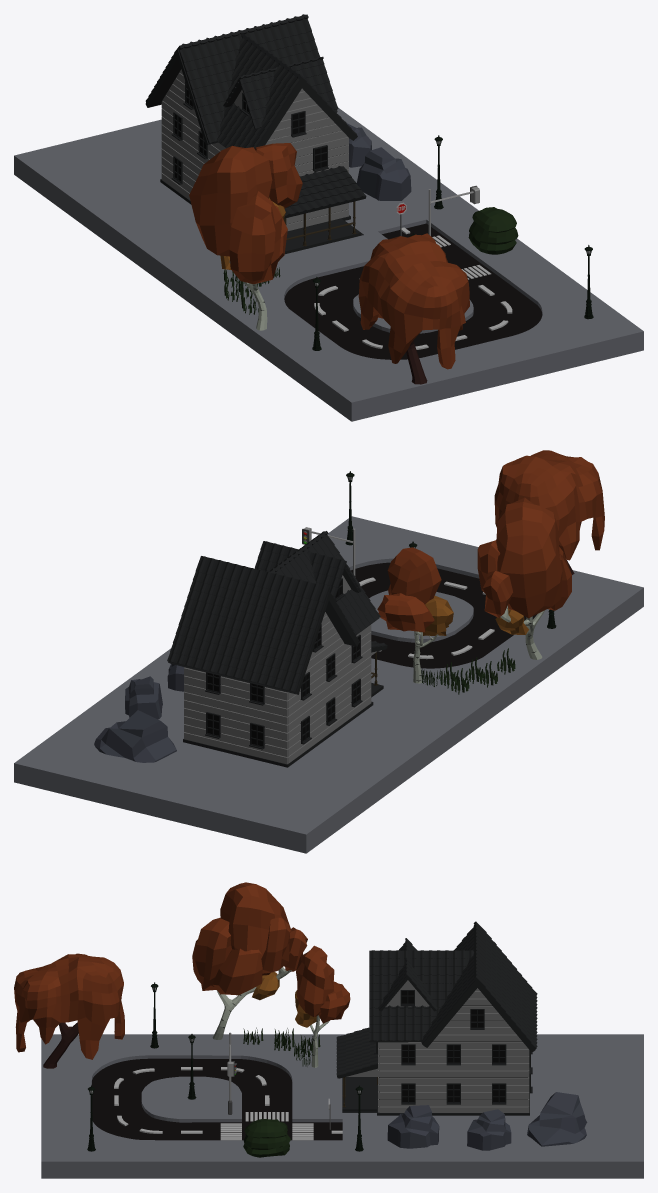
File: city.obj
The picture shows the model from 3 angles, top to bottom: view 1: azimuth 30°, elevation 25°; view 2: azimuth 150°, elevation 25°; view 3: azimuth 270°, elevation 25°; orthographic projection. The views are drawn at different scales.
Parts seen in each view (by area): view 1: House1_Plane.010, Street_Curve_Cube.002, Street_Curve_Cube.000, Street_Curve_Cube.001, Street_Empty_Cube.002, Willow_Autumn_4_Cube.085, BirchTree_Autumn_1_Cube.097, Street_Empty_Cube.003, Street_3Way_Cube.007, Street_Empty_Cube, Rock_7_Cube.030, BirchTree_Autumn_3_Cube.082 (+2 smaller); view 2: House1_Plane.010, Street_Empty_Cube.002, Street_Empty_Cube.001, Street_Curve_Cube.001, BirchTree_Autumn_1_Cube.097, Street_Empty_Cube.003, Street_Curve_Cube.000, Willow_Autumn_4_Cube.085, Street_Curve_Cube.002, BirchTree_Autumn_3_Cube.082, Rock_7_Cube.000, Street_Empty_Cube (+1 smaller); view 3: House1_Plane.010, Street_Curve_Cube.002, Street_3Way_Cube.007, BirchTree_Autumn_1_Cube.097, Street_Empty_Cube.001, Street_Curve_Cube.001, Willow_Autumn_4_Cube.085, Street_Curve_Cube.000, Street_Empty_Cube, Street_Empty_Cube.002, BirchTree_Autumn_3_Cube.082, Rock_7_Cube.000 (+3 smaller).
Part boxes in pixels (<box>): House1_Plane.010: <box>145,14,366,254</box>; Street_Curve_Cube.002: <box>456,269,643,385</box>; Street_Curve_Cube.000: <box>267,317,497,421</box>; Street_Curve_Cube.001: <box>182,243,361,359</box>; Street_Empty_Cube.002: <box>14,120,180,235</box>; Willow_Autumn_4_Cube.085: <box>358,233,469,384</box>; BirchTree_Autumn_1_Cube.097: <box>189,145,287,330</box>; Street_Empty_Cube.003: <box>98,197,223,297</box>; Street_3Way_Cube.007: <box>329,208,559,294</box>; Street_Empty_Cube: <box>345,146,474,234</box>; Rock_7_Cube.030: <box>356,147,411,200</box>; BirchTree_Autumn_3_Cube.082: <box>255,143,302,219</box>; House1_Plane.010: <box>167,531,387,767</box>; Street_Empty_Cube.002: <box>160,752,390,853</box>; Street_Empty_Cube.001: <box>14,701,223,817</box>; Street_Curve_Cube.001: <box>371,623,559,729</box>; BirchTree_Autumn_1_Cube.097: <box>477,497,571,659</box>; Street_Empty_Cube.003: <box>308,688,475,791</box>; Street_Curve_Cube.000: <box>437,567,643,667</box>; Willow_Autumn_4_Cube.085: <box>494,450,604,574</box>; Street_Curve_Cube.002: <box>327,516,478,605</box>; BirchTree_Autumn_3_Cube.082: <box>377,547,453,683</box>; Rock_7_Cube.000: <box>94,710,176,762</box>; Street_Empty_Cube: <box>98,648,183,722</box>; House1_Plane.010: <box>336,921,537,1115</box>; Street_Curve_Cube.002: <box>41,1098,191,1178</box>; Street_3Way_Cube.007: <box>192,1098,342,1178</box>; BirchTree_Autumn_1_Cube.097: <box>192,882,307,1039</box>; Street_Empty_Cube.001: <box>493,1098,643,1178</box>; Street_Curve_Cube.001: <box>192,1034,342,1101</box>; Willow_Autumn_4_Cube.085: <box>14,953,124,1068</box>; Street_Curve_Cube.000: <box>41,1034,191,1101</box>; Street_Empty_Cube: <box>342,1113,493,1178</box>; Street_Empty_Cube.002: <box>530,1034,643,1097</box>; BirchTree_Autumn_3_Cube.082: <box>295,945,350,1067</box>; Rock_7_Cube.000: <box>527,1092,587,1146</box>.
Size of the model in its own units: 10.05 by 5.98 by 18.81.
